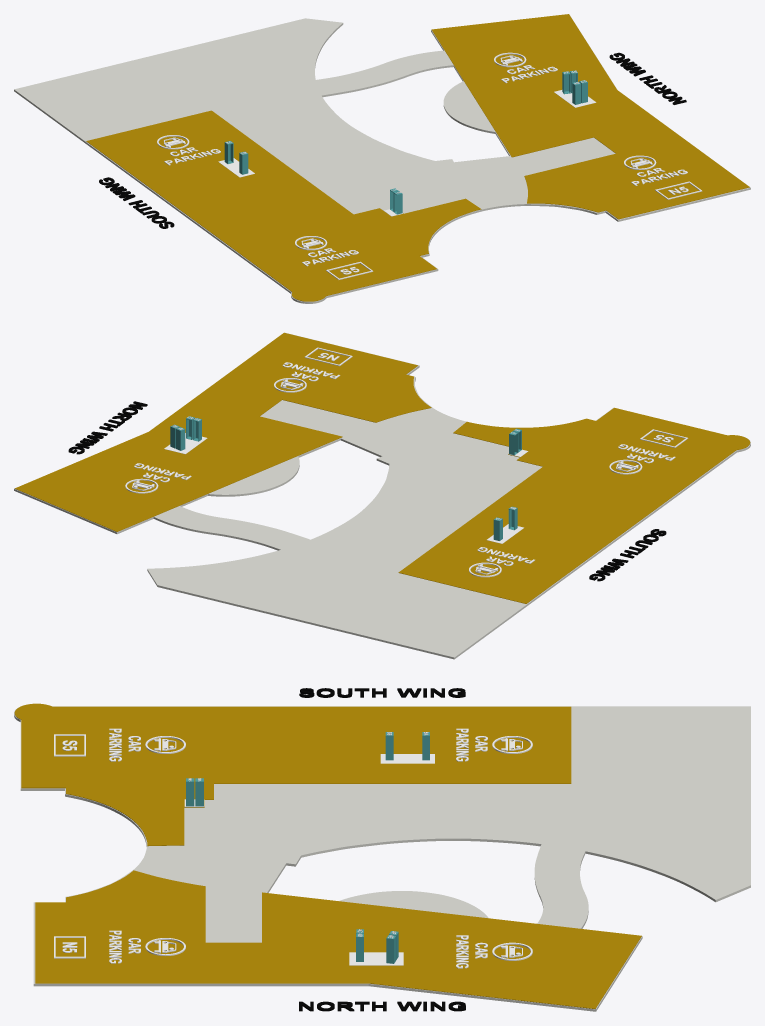
Rendered from floor-5.gltf.
The picture shows the model from 3 angles, top to bottom: view 1: azimuth 30°, elevation 25°; view 2: azimuth 150°, elevation 25°; view 3: azimuth 270°, elevation 25°; orthographic projection. The views are drawn at different scales.
Visible parts, largest first — view 1: Shape003, Line954, Line953, Text131, Text073; view 2: Shape003, Line954, Line953, Text131, Text073; view 3: Shape003, Line953, Line954, Text131, Text073, Line986, Text178, Text175, Text179, Text176.
Part boxes in pixels (x1,y1,x2,y2): Shape003: [14, 16, 750, 303]; Line954: [86, 110, 481, 301]; Line953: [431, 14, 749, 219]; Text131: [609, 52, 686, 104]; Text073: [99, 177, 174, 228]; Shape003: [14, 332, 750, 659]; Line954: [398, 407, 750, 603]; Line953: [14, 332, 431, 531]; Text131: [68, 401, 147, 454]; Text073: [589, 529, 666, 581]; Shape003: [14, 706, 750, 1011]; Line953: [35, 870, 641, 1008]; Line954: [14, 703, 571, 846]; Text131: [299, 1001, 465, 1011]; Text073: [299, 688, 465, 697]; Line986: [349, 952, 403, 965]; Text178: [456, 935, 487, 968]; Text175: [456, 728, 487, 761]; Text179: [109, 930, 140, 963]; Text176: [109, 728, 140, 761].
Bounding box in the file's own units: 117 × 4.79 × 113.
